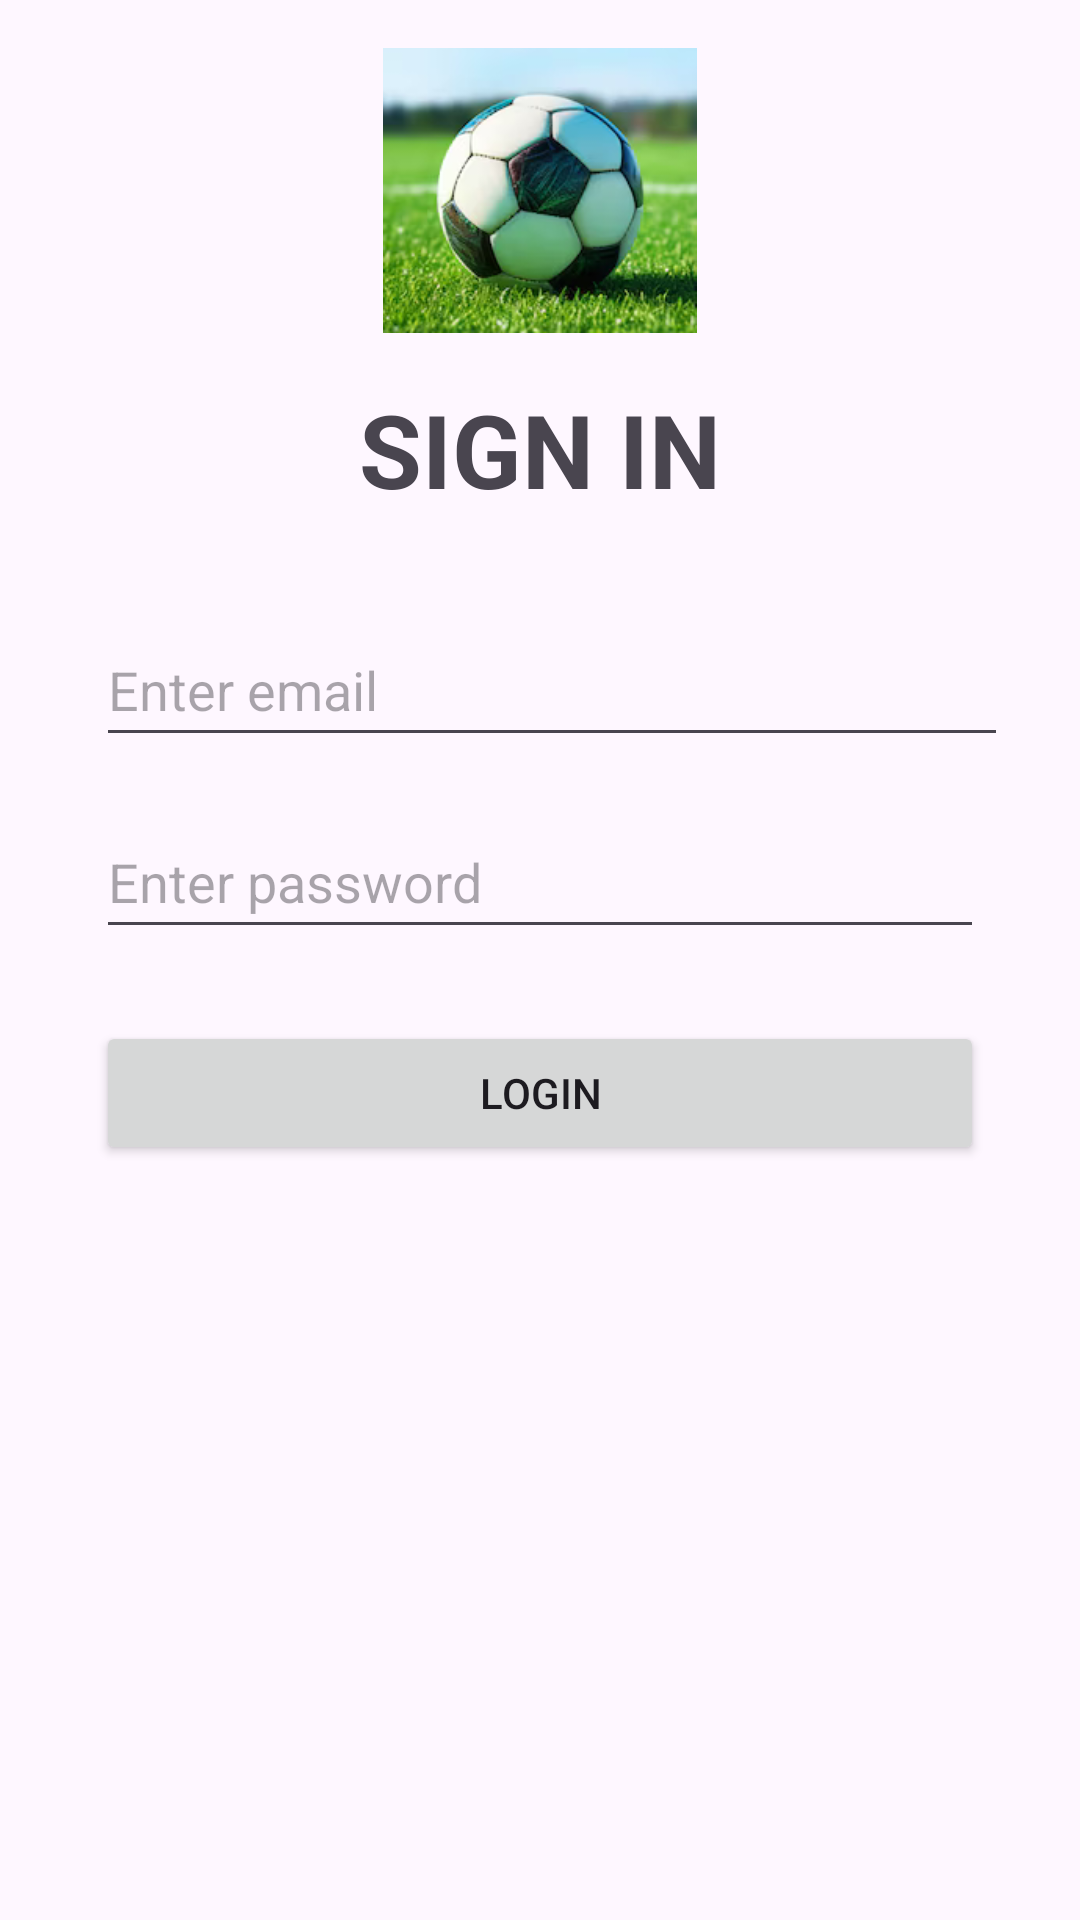

Where to tap for icons on this 1080×1920 app screen, as (x,y):
futbol: (540,190)
